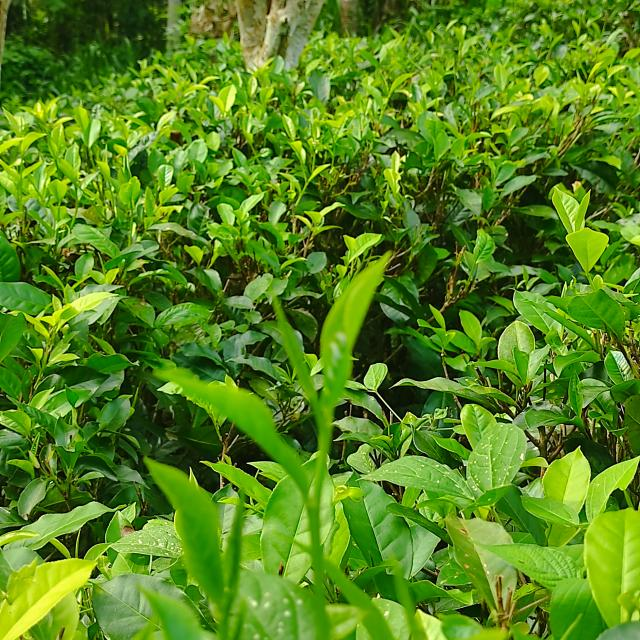unopened_leaf: (262, 285, 331, 425), (212, 475, 249, 622)
